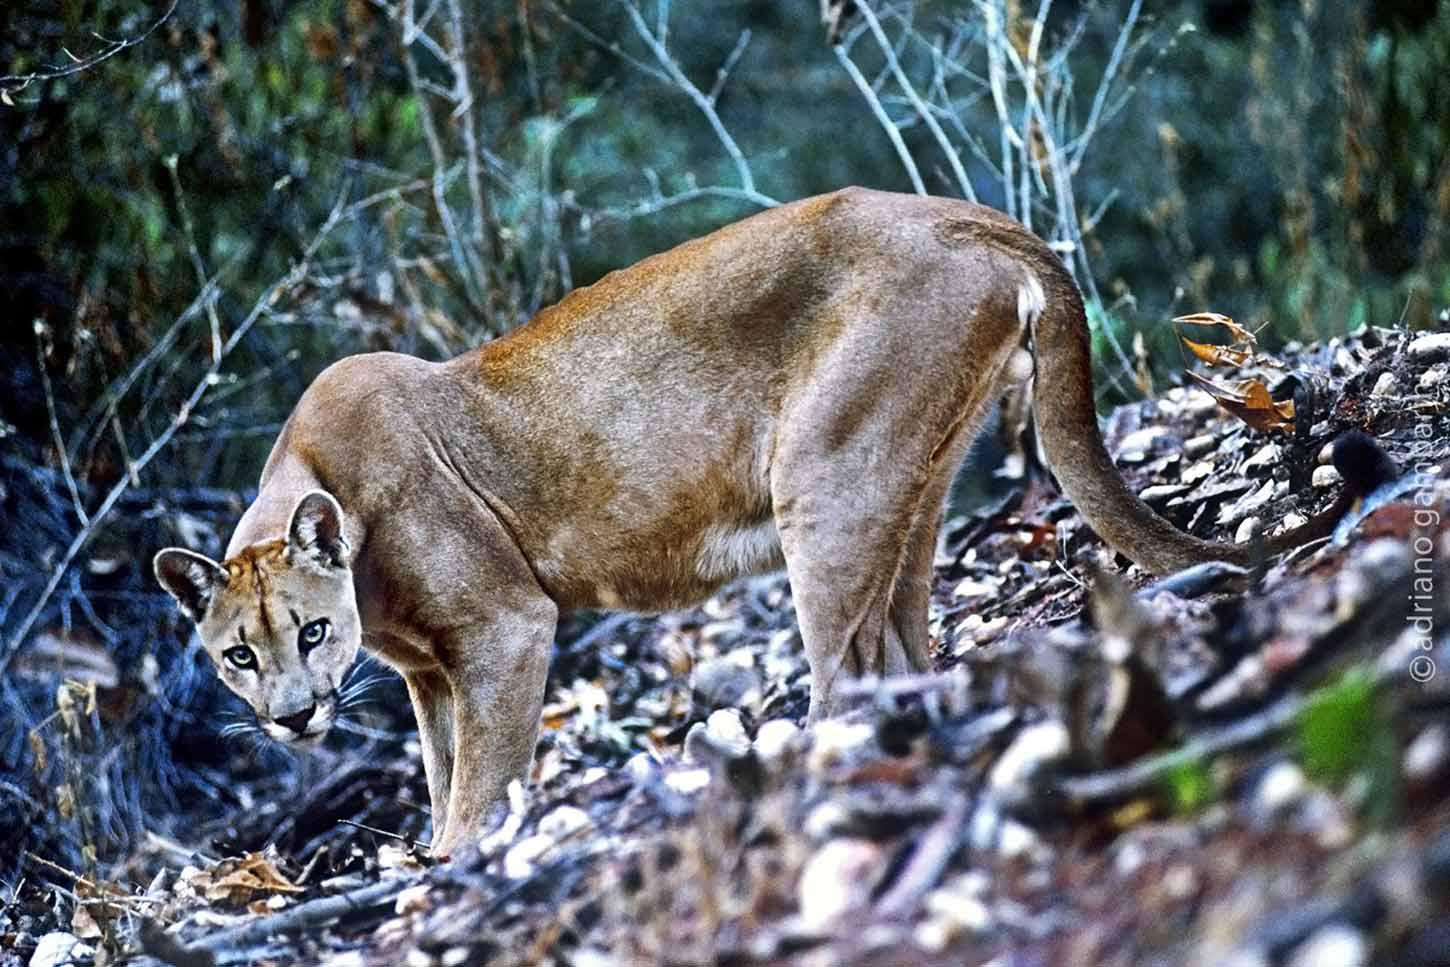OncaParda: (140, 177, 1401, 879)
